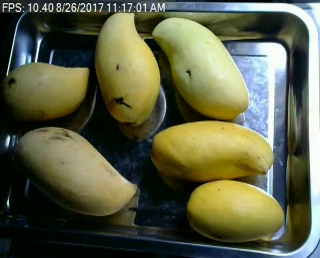Mango: (18, 127, 137, 216), (153, 17, 249, 118), (92, 13, 160, 125), (153, 120, 273, 181), (188, 178, 284, 239), (2, 62, 88, 118)
